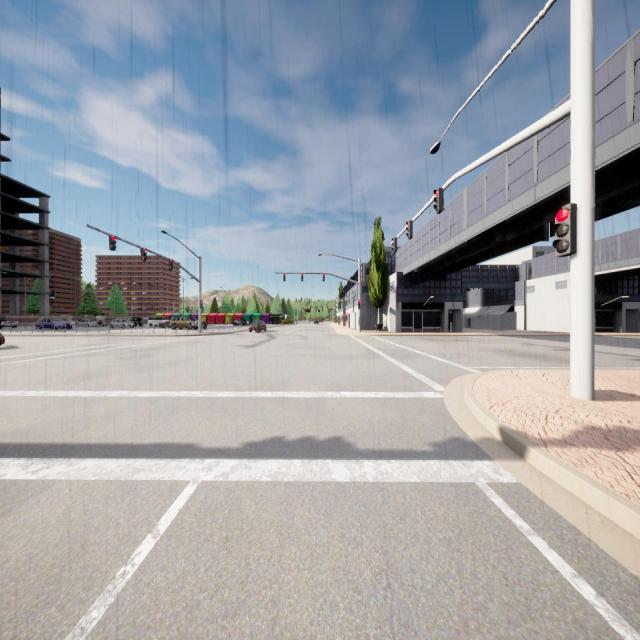Vehicle: (35, 315, 72, 331), (170, 315, 198, 330), (148, 316, 170, 328), (110, 318, 134, 329), (248, 320, 267, 333), (75, 318, 97, 328), (0, 317, 18, 329), (190, 320, 207, 330), (232, 317, 247, 326), (132, 317, 142, 327), (0, 332, 5, 346), (97, 320, 104, 328), (318, 316, 322, 322), (314, 320, 319, 324)
traffic_light: (552, 203, 576, 257), (434, 188, 444, 214), (406, 220, 413, 240), (109, 236, 116, 250), (392, 238, 397, 254), (141, 248, 147, 261), (169, 259, 173, 270), (283, 273, 286, 281), (200, 300, 203, 308), (323, 272, 325, 282), (358, 300, 360, 309), (301, 273, 303, 281)
